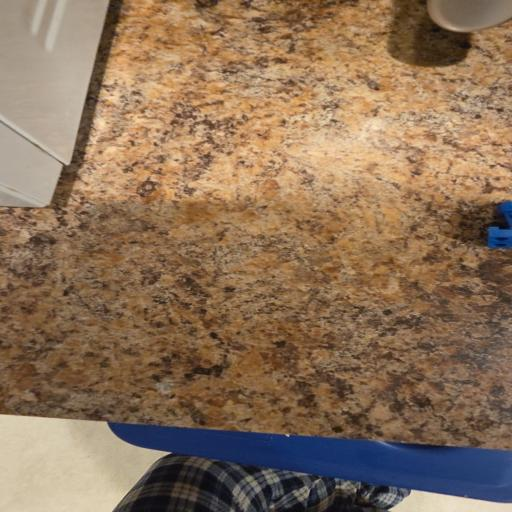Blue: (488, 224, 512, 248), (498, 202, 512, 221)
